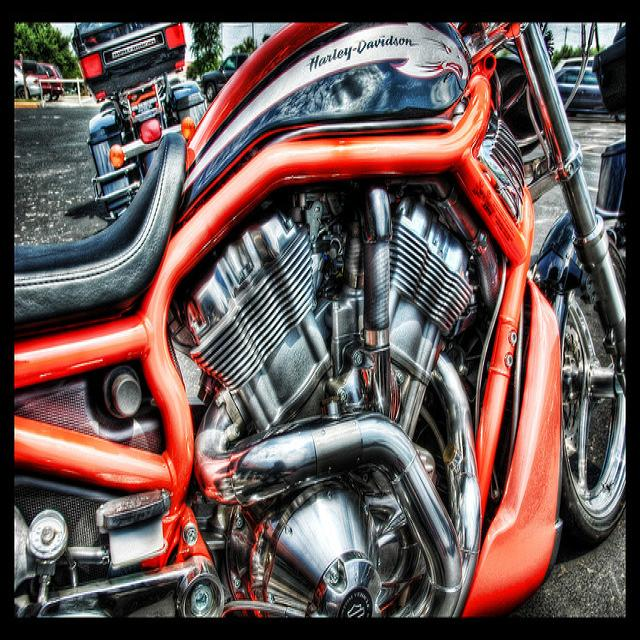motor: (15, 20, 627, 620), (71, 14, 207, 225), (594, 141, 626, 250)
